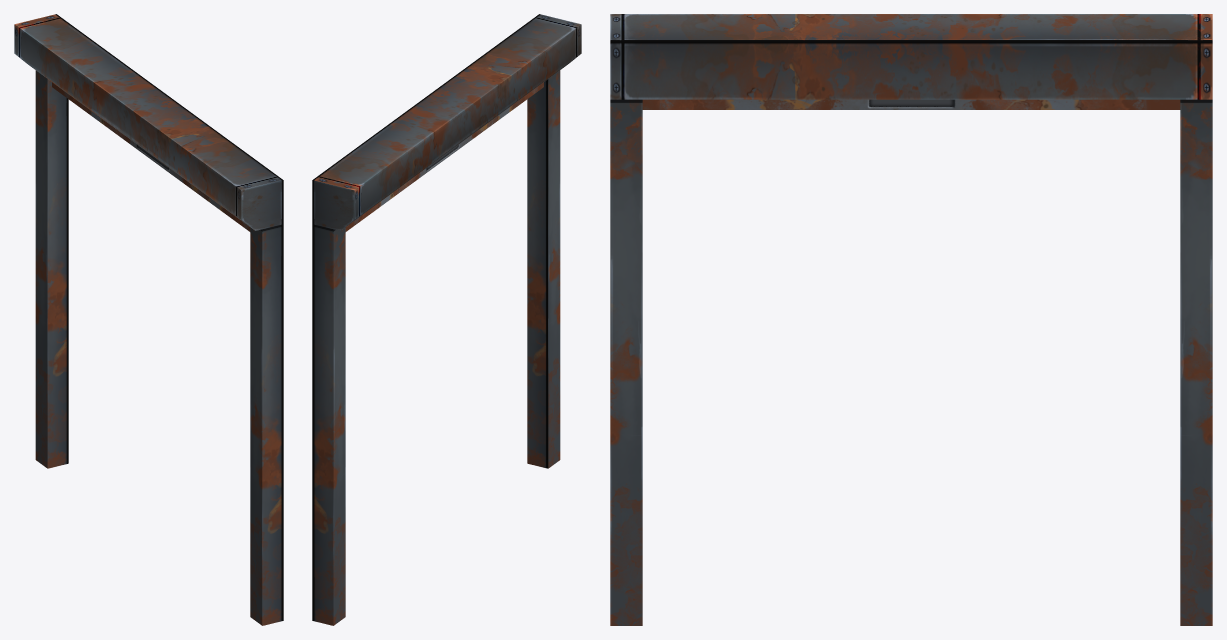
Rendered from rollerShutter05_3m.fbx.
3 views of the same model, side by side, from view 1: azimuth 30°, elevation 25°; view 2: azimuth 150°, elevation 25°; view 3: azimuth 270°, elevation 25° (orthographic). The views are drawn at different scales.
Parts seen in each view (by area): view 1: rollerShutter05_3m; view 2: rollerShutter05_3m; view 3: rollerShutter05_3m.
Part boxes in pixels (x1,y1,x2,y2): rollerShutter05_3m: (14, 14, 283, 625); rollerShutter05_3m: (312, 14, 581, 625); rollerShutter05_3m: (610, 14, 1212, 625).
Size of the model in its own units: 30 by 300 by 280.
